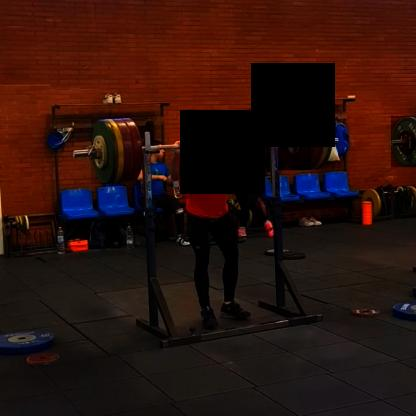barbell: (279, 114, 312, 171), (92, 120, 116, 185), (392, 117, 416, 168)
